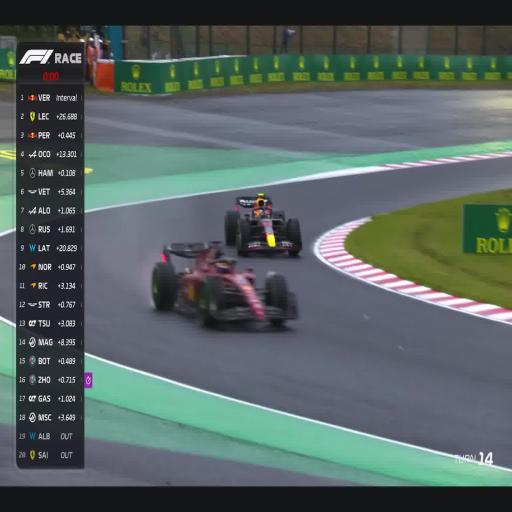f1_car: (151, 241, 298, 325), (224, 193, 302, 256)
